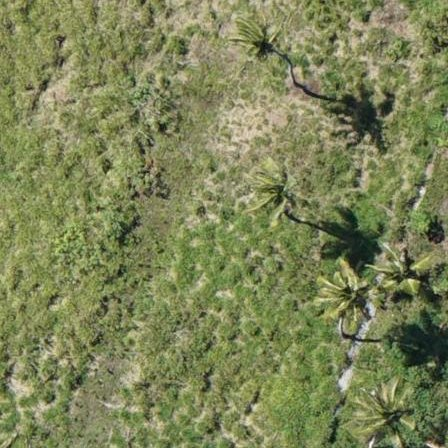palm_tree: (348, 375, 421, 448), (309, 256, 374, 325), (243, 161, 309, 227), (373, 243, 431, 306), (227, 9, 283, 63)
